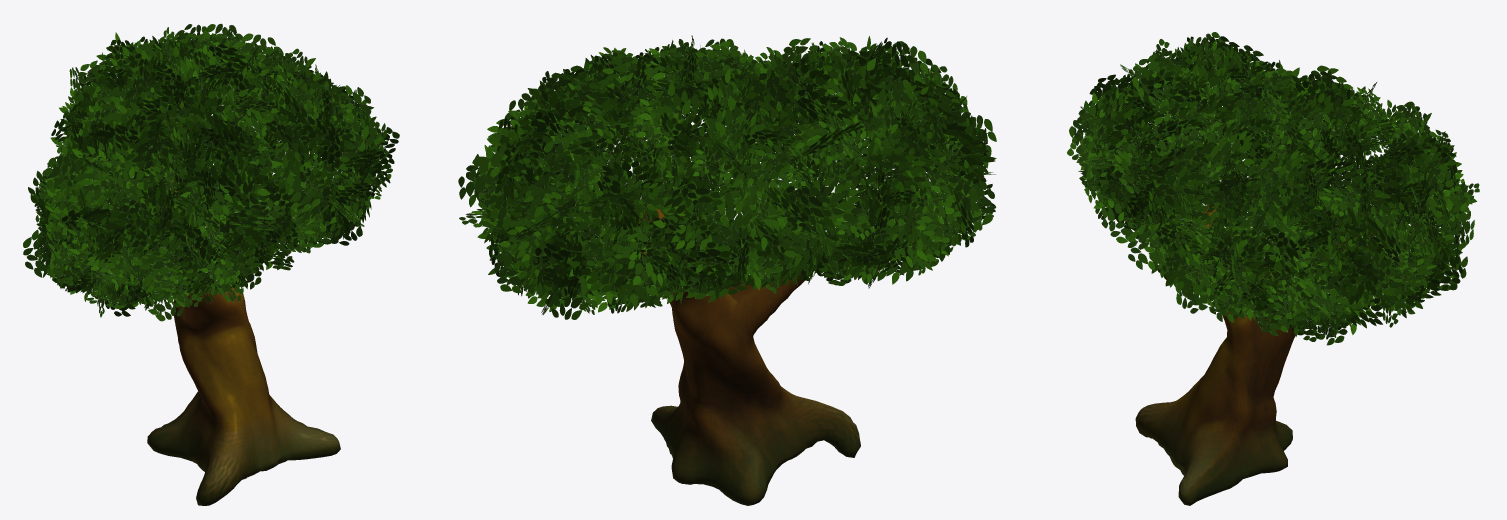
File: tree.fbx
3 views of the same model, side by side, from view 1: azimuth 30°, elevation 25°; view 2: azimuth 150°, elevation 25°; view 3: azimuth 270°, elevation 25° (orthographic). The views are drawn at different scales.
Visible parts, largest first — view 1: tree_lo, leaves copy.114, leaves copy.937, leaves copy.118, leaves copy.091, leaves copy.380, leaves copy.081, leaves copy.098, leaves copy.005, leaves copy.106, leaves copy.442, leaves copy.429 (+48 smaller); view 2: tree_lo, leaves copy.234, leaves copy.829, leaves copy.738, leaves copy.208, leaves copy.768, leaves copy.733, leaves copy.277, leaves copy.788, leaves copy.722, leaves copy.960, leaves copy.746 (+47 smaller); view 3: tree_lo, leaves copy.446, leaves copy.841, leaves copy.357, leaves copy.904, leaves copy.923, leaves copy.995, leaves copy.945, leaves copy.986, leaves copy.975, leaves copy.990, leaves copy.305 (+48 smaller).
Boxes of the visible parts, left/top/right/bottom form: tree_lo: left=93, top=171, right=340, bottom=505; leaves copy.114: left=121, top=137, right=178, bottom=189; leaves copy.937: left=334, top=111, right=382, bottom=168; leaves copy.118: left=181, top=177, right=232, bottom=236; leaves copy.091: left=136, top=230, right=181, bottom=276; leaves copy.380: left=211, top=212, right=264, bottom=262; leaves copy.081: left=67, top=163, right=114, bottom=208; leaves copy.098: left=113, top=159, right=150, bottom=209; leaves copy.005: left=105, top=236, right=154, bottom=285; leaves copy.106: left=168, top=224, right=212, bottom=272; leaves copy.442: left=273, top=103, right=316, bottom=153; leaves copy.429: left=264, top=121, right=304, bottom=177; tree_lo: left=636, top=206, right=880, bottom=505; leaves copy.234: left=804, top=177, right=870, bottom=239; leaves copy.829: left=568, top=240, right=640, bottom=295; leaves copy.738: left=691, top=185, right=749, bottom=251; leaves copy.208: left=868, top=147, right=929, bottom=201; leaves copy.768: left=621, top=227, right=671, bottom=285; leaves copy.733: left=704, top=95, right=759, bottom=170; leaves copy.277: left=721, top=158, right=769, bottom=208; leaves copy.788: left=650, top=82, right=704, bottom=152; leaves copy.722: left=745, top=73, right=795, bottom=138; leaves copy.960: left=469, top=140, right=524, bottom=201; leaves copy.746: left=664, top=180, right=722, bottom=224; tree_lo: left=1135, top=175, right=1376, bottom=505; leaves copy.446: left=1154, top=168, right=1217, bottom=213; leaves copy.841: left=1211, top=130, right=1271, bottom=180; leaves copy.357: left=1127, top=222, right=1186, bottom=270; leaves copy.904: left=1423, top=191, right=1470, bottom=239; leaves copy.923: left=1330, top=164, right=1383, bottom=208; leaves copy.995: left=1332, top=251, right=1377, bottom=304; leaves copy.945: left=1240, top=178, right=1287, bottom=237; leaves copy.986: left=1261, top=260, right=1314, bottom=314; leaves copy.975: left=1229, top=211, right=1273, bottom=268; leaves copy.990: left=1297, top=261, right=1341, bottom=313; leaves copy.305: left=1101, top=195, right=1145, bottom=243.
Size of the model in its own units: 568 by 531 by 535.
Materials: 2 (2 with a texture image).
